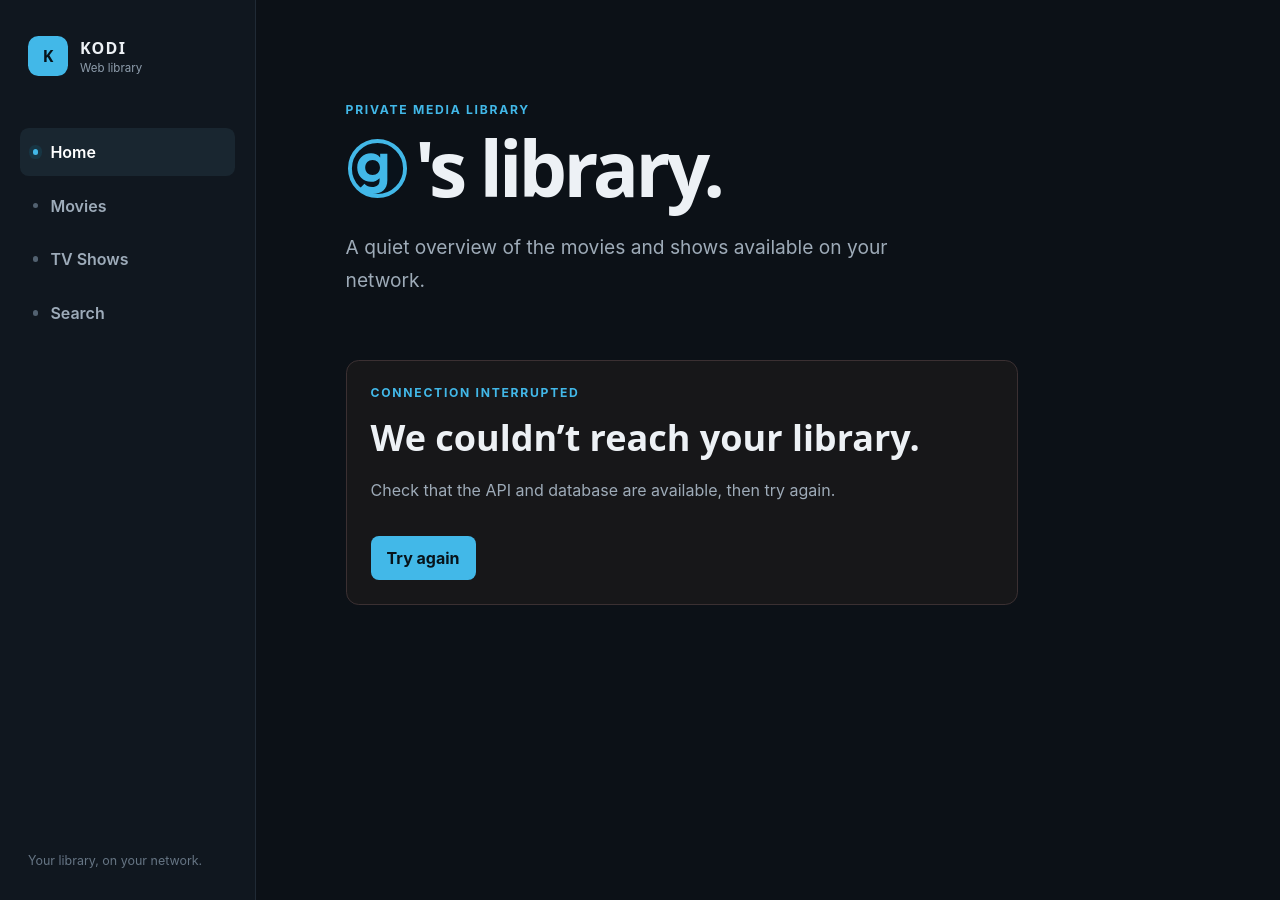
Test: home dashboard › shows a recoverable error and retries the request
The width and height of the screenshot is (1280, 900).
Click the button "Try again".
click(423, 558)  # box [371,536,476,580]
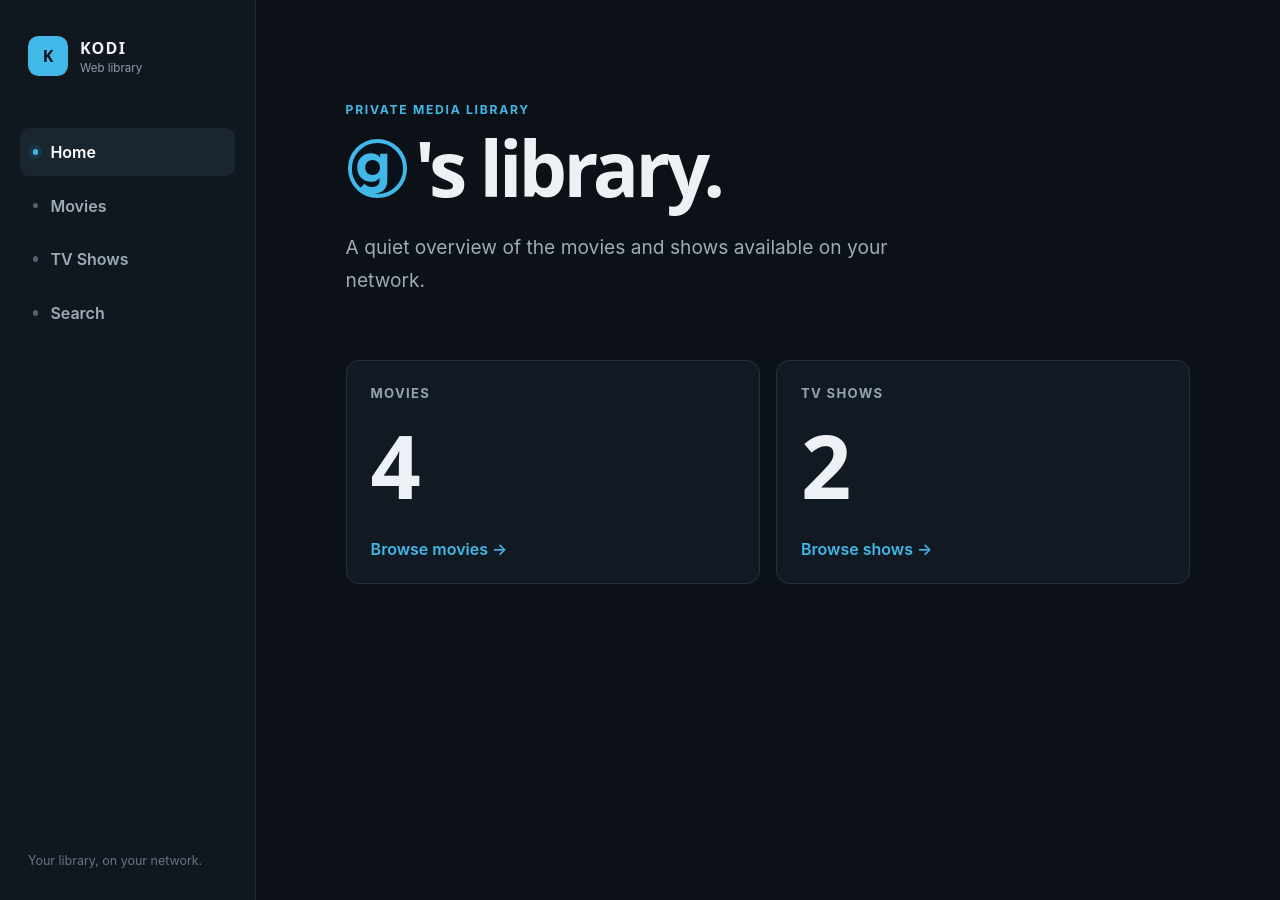
Now the text "4" is shown, box [371,405,416,525]
